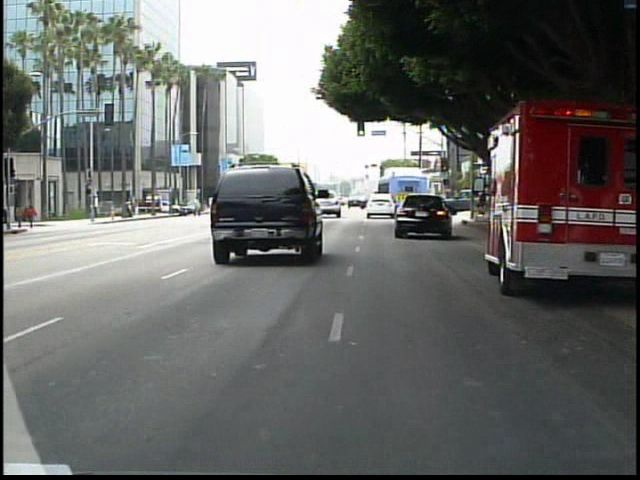person: (27, 200, 40, 231), (13, 202, 27, 229)
